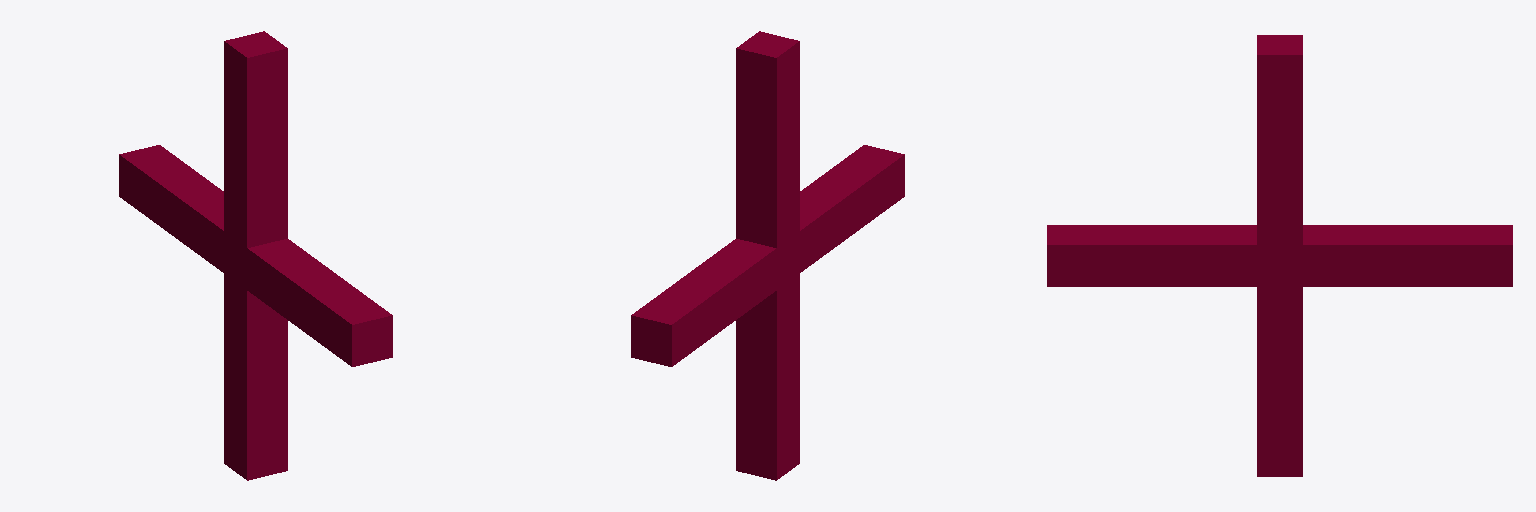
Rendered from PlusSign.obj.
The picture shows the model from 3 angles: view 1: azimuth 30°, elevation 25°; view 2: azimuth 150°, elevation 25°; view 3: azimuth 270°, elevation 25°; orthographic projection.
Visible parts, largest first — view 1: Box002, Box001; view 2: Box002, Box001; view 3: Box001, Box002.
Part boxes in pixels (x1,y1,x2,y2): Box002: (224, 31, 287, 480); Box001: (119, 145, 392, 366); Box002: (736, 31, 799, 480); Box001: (631, 145, 904, 366); Box001: (1047, 225, 1512, 286); Box002: (1257, 35, 1302, 476).
Bounding box in the file's own units: 10 × 100 × 100.